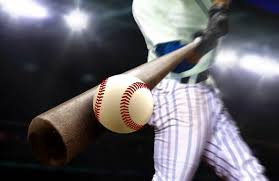baseball bat: (27, 22, 227, 170)
